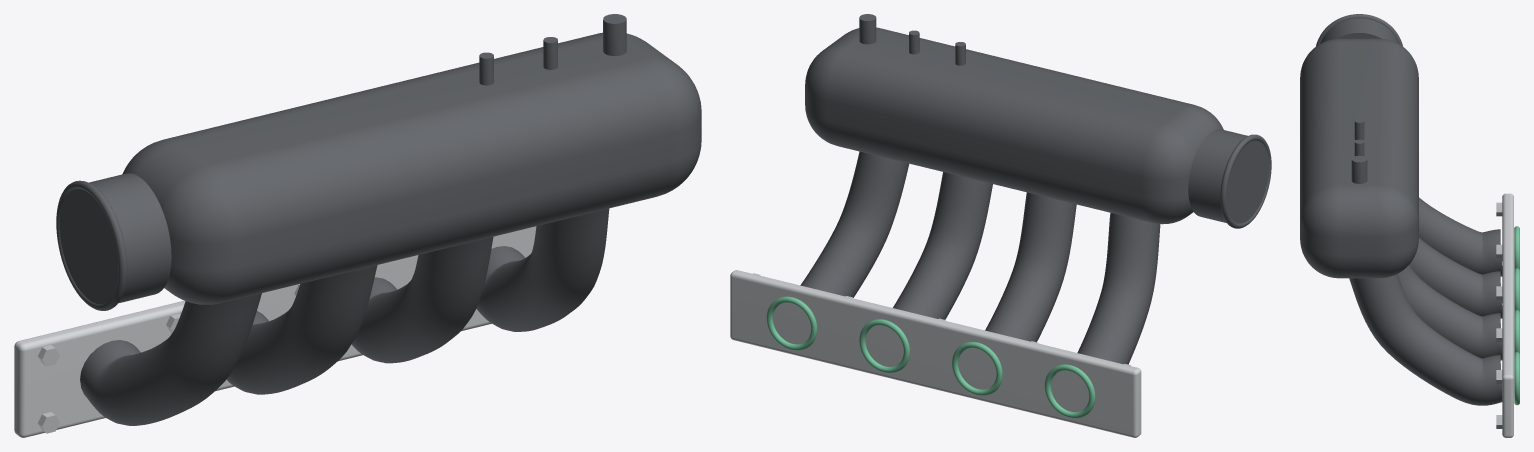
Rendered from intake_manifold.glb.
3 renders of one model, left to right at view 1: azimuth 30°, elevation 25°; view 2: azimuth 150°, elevation 25°; view 3: azimuth 270°, elevation 25°, orthographic. The views are drawn at different scales.
Parts seen in each view (by area): view 1: plenum, runners, head_flange, throttle_inlet, vacuum_ports; view 2: plenum, runners, head_flange, throttle_inlet, gaskets, vacuum_ports; view 3: plenum, runners, head_flange, throttle_inlet, gaskets, vacuum_ports.
Boxes of the visible parts, <box> form: plenum: <box>122,32,701,304</box>; runners: <box>80,208,609,425</box>; head_flange: <box>14,226,536,437</box>; throttle_inlet: <box>56,173,171,310</box>; vacuum_ports: <box>479,14,626,85</box>; plenum: <box>805,27,1223,224</box>; runners: <box>800,151,1160,364</box>; head_flange: <box>730,270,1141,437</box>; throttle_inlet: <box>1188,129,1271,228</box>; gaskets: <box>766,296,1095,418</box>; vacuum_ports: <box>859,14,965,65</box>; plenum: <box>1300,38,1418,278</box>; runners: <box>1349,197,1502,405</box>; head_flange: <box>1496,193,1513,437</box>; throttle_inlet: <box>1316,14,1402,46</box>; gaskets: <box>1514,226,1519,405</box>; vacuum_ports: <box>1351,118,1367,183</box>.
Bounding box in the file's own units: 471 × 284 × 222.
